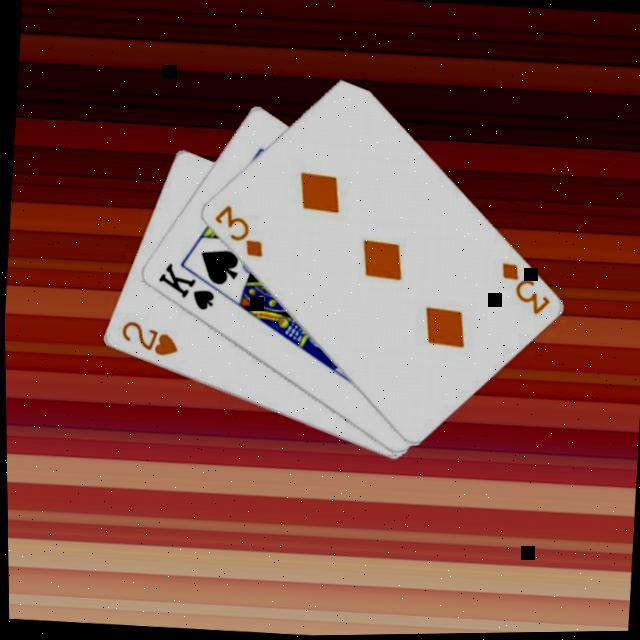2H: (113, 318, 180, 362)
3D: (204, 201, 267, 262), (492, 260, 553, 322)
KS: (150, 259, 217, 316)
